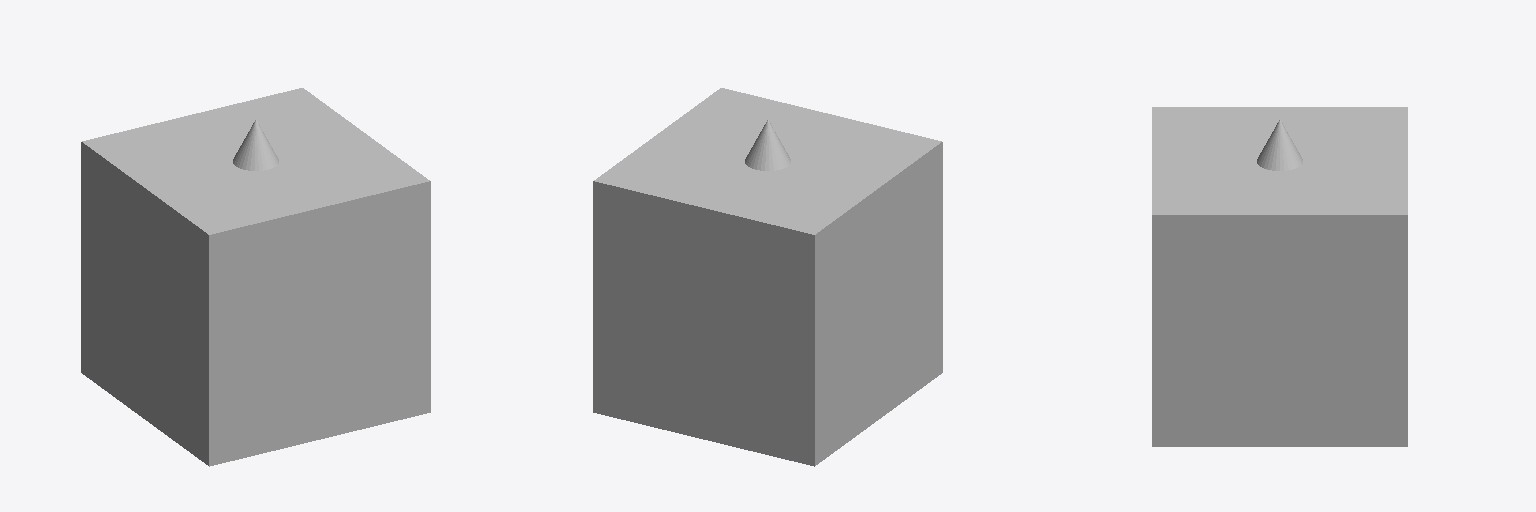
Rendered from BOSS.obj.
The picture shows the model from 3 angles: view 1: azimuth 30°, elevation 25°; view 2: azimuth 150°, elevation 25°; view 3: azimuth 270°, elevation 25°; orthographic projection.
Parts seen in each view (by area): view 1: Cube, 円錐; view 2: Cube, 円錐; view 3: Cube, 円錐.
Part boxes in pixels (x1,y1,x2,y2): Cube: (81,88,430,466); 円錐: (233,120,278,170); Cube: (593,88,942,466); 円錐: (745,120,790,170); Cube: (1152,107,1407,446); 円錐: (1257,120,1302,170).
Size of the model in its own units: 10.98 by 12.98 by 10.98.